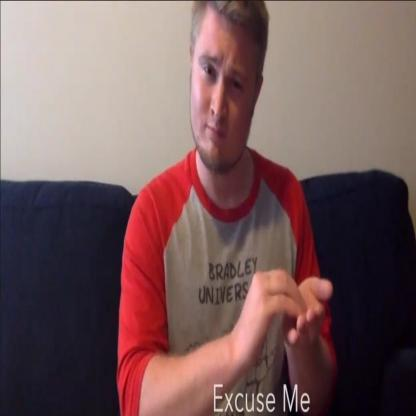ExcuseMe: (230, 246, 340, 372)
